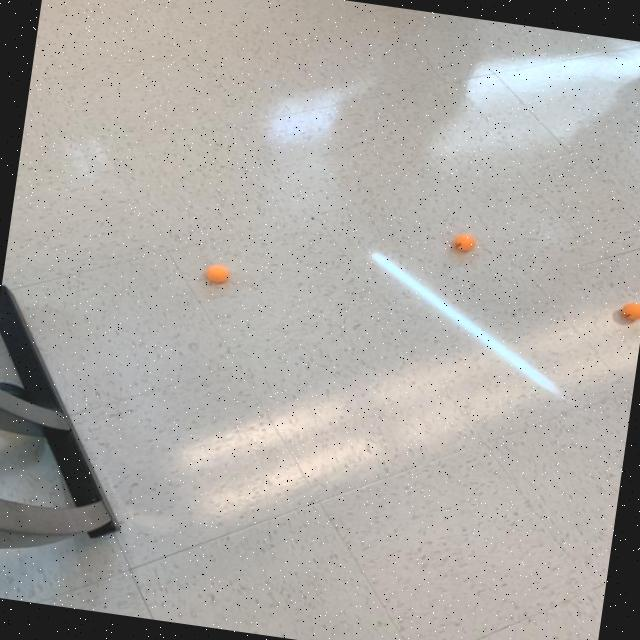ping-pong-ball: (203, 260, 233, 288), (450, 231, 480, 256), (616, 296, 640, 325)
